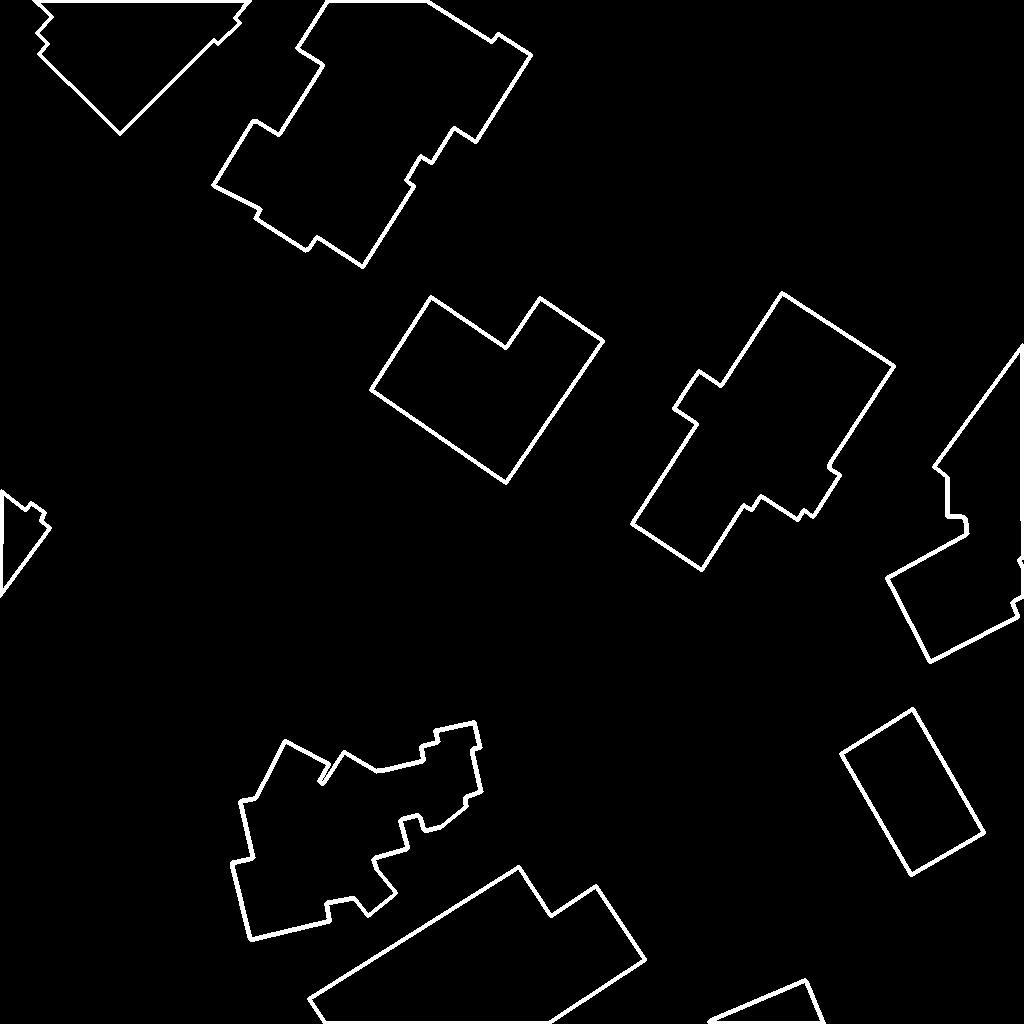building: (213, 0, 532, 268), (632, 293, 895, 571), (232, 722, 482, 941), (309, 867, 646, 1024), (371, 297, 604, 484), (887, 345, 1024, 663), (34, 0, 252, 135), (841, 709, 985, 876), (0, 491, 51, 597), (709, 980, 825, 1024)
